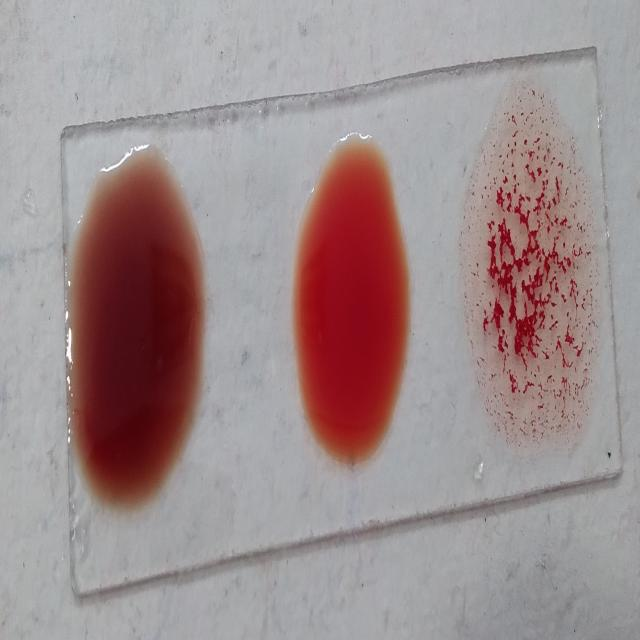D: (468, 78, 594, 442)
